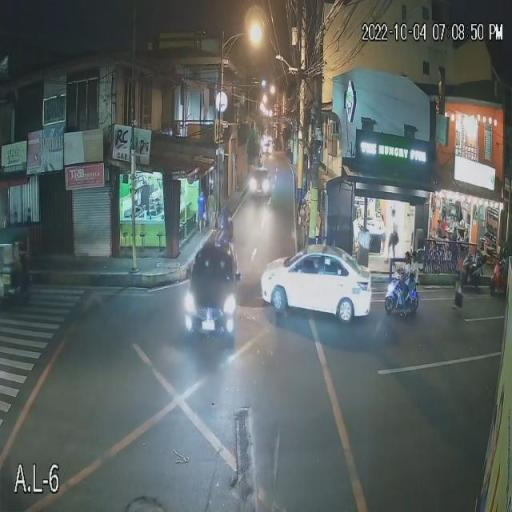helmet: (411, 250, 418, 261), (405, 251, 411, 263)
motorcycle: (384, 279, 420, 313)
rider: (407, 264, 419, 312), (401, 265, 412, 314)
